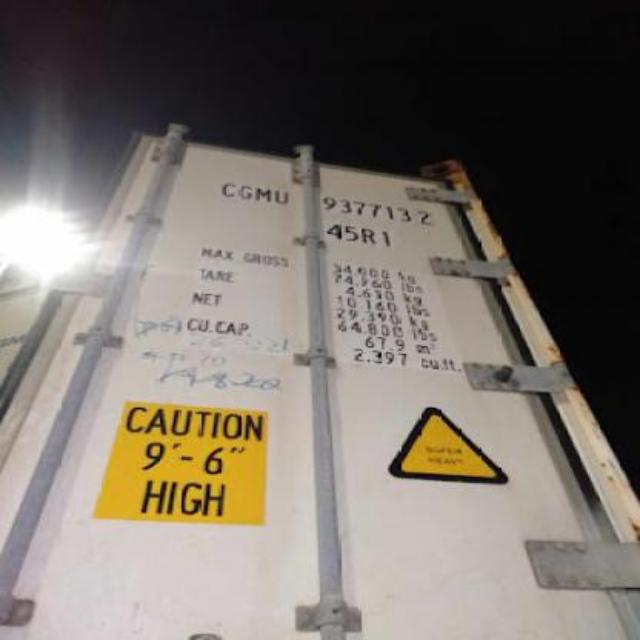1: (382, 195, 396, 225)
2: (414, 204, 432, 226)
3: (338, 190, 352, 220), (398, 200, 410, 228)
7: (366, 194, 379, 222), (351, 197, 364, 220)
9: (322, 188, 336, 215)
C: (220, 172, 236, 200)
G: (237, 174, 253, 202)
M: (254, 181, 274, 205)
U: (274, 182, 290, 210)
